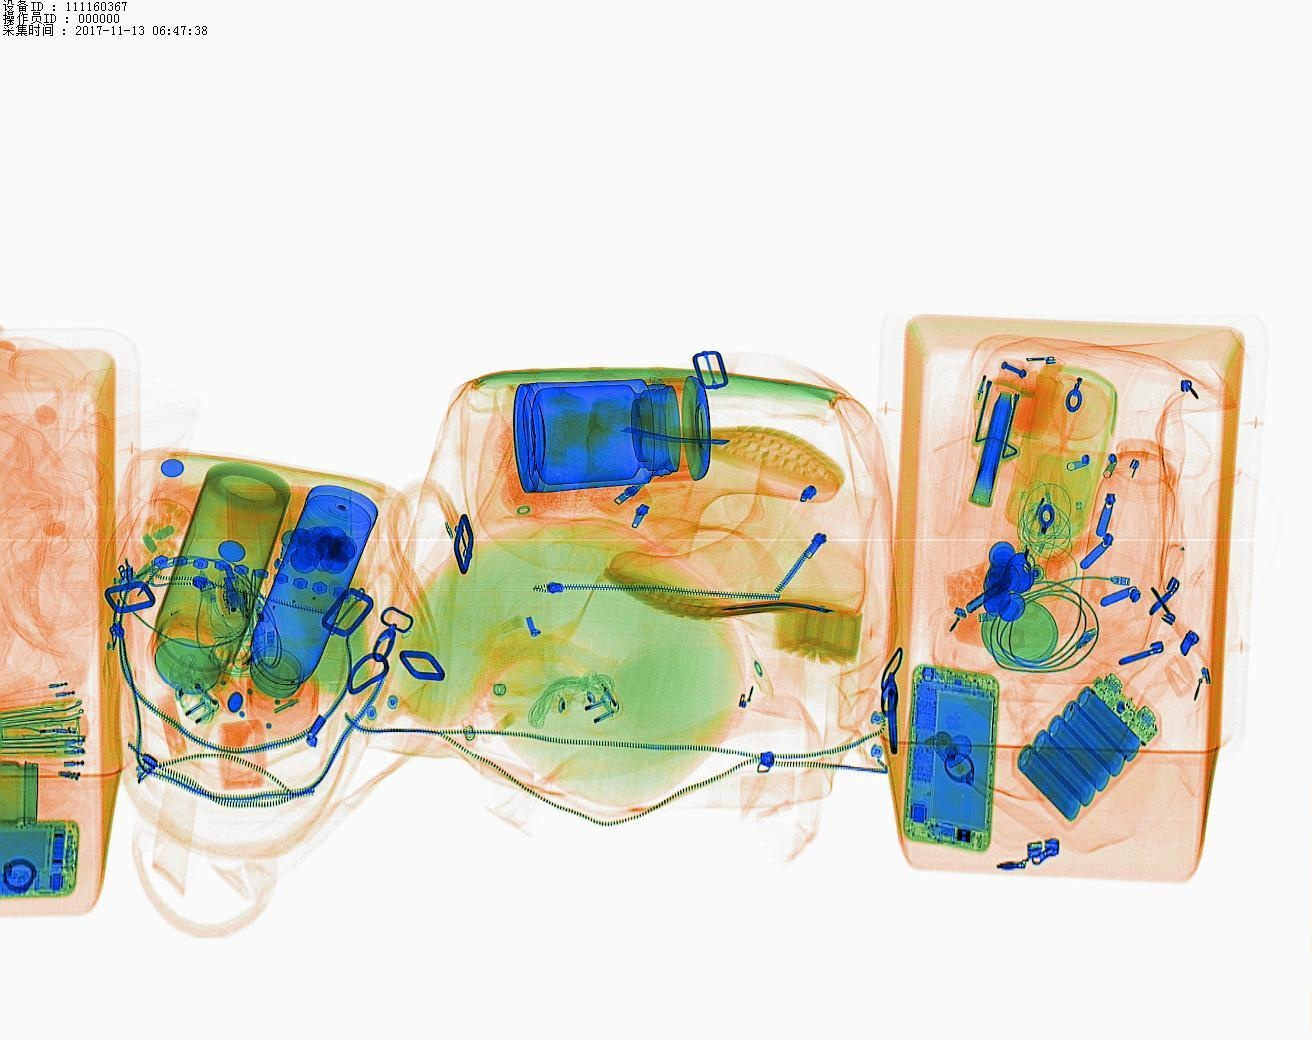core: (1031, 670, 1157, 815)
